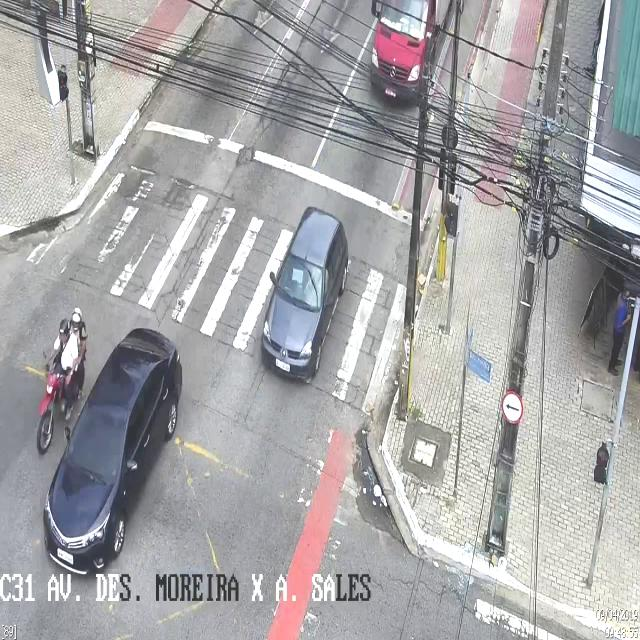Car: (43, 324, 182, 569), (259, 208, 348, 378)
Motorcycle: (34, 309, 82, 451)
Truck: (371, 1, 469, 103)
